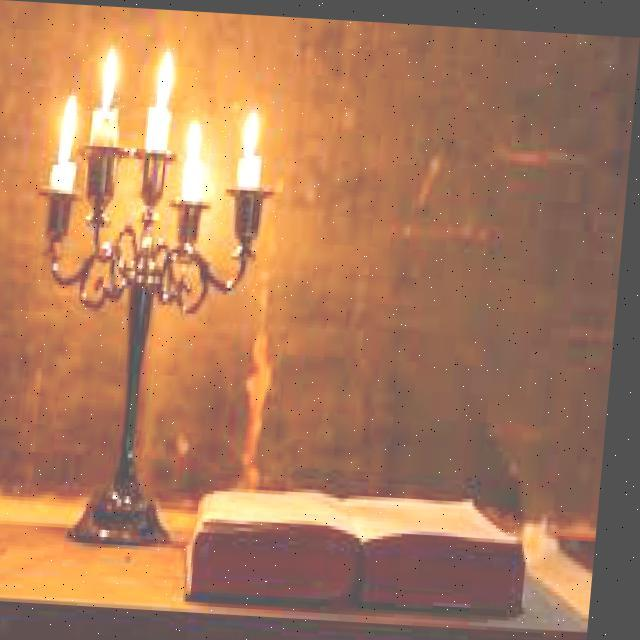Fire: (52, 90, 82, 158), (151, 42, 179, 114), (95, 44, 121, 110), (236, 102, 262, 156), (182, 110, 207, 163)
